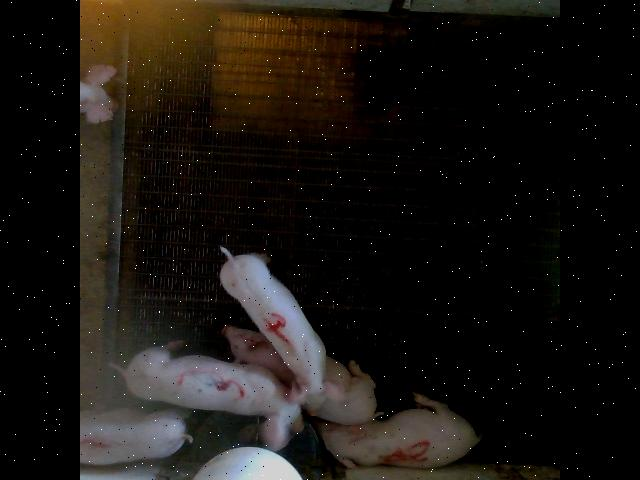pig-1: (82, 408, 192, 464)
pig-3: (112, 341, 302, 450)
pig-4: (220, 246, 346, 414)
pig-5: (313, 391, 482, 468)
